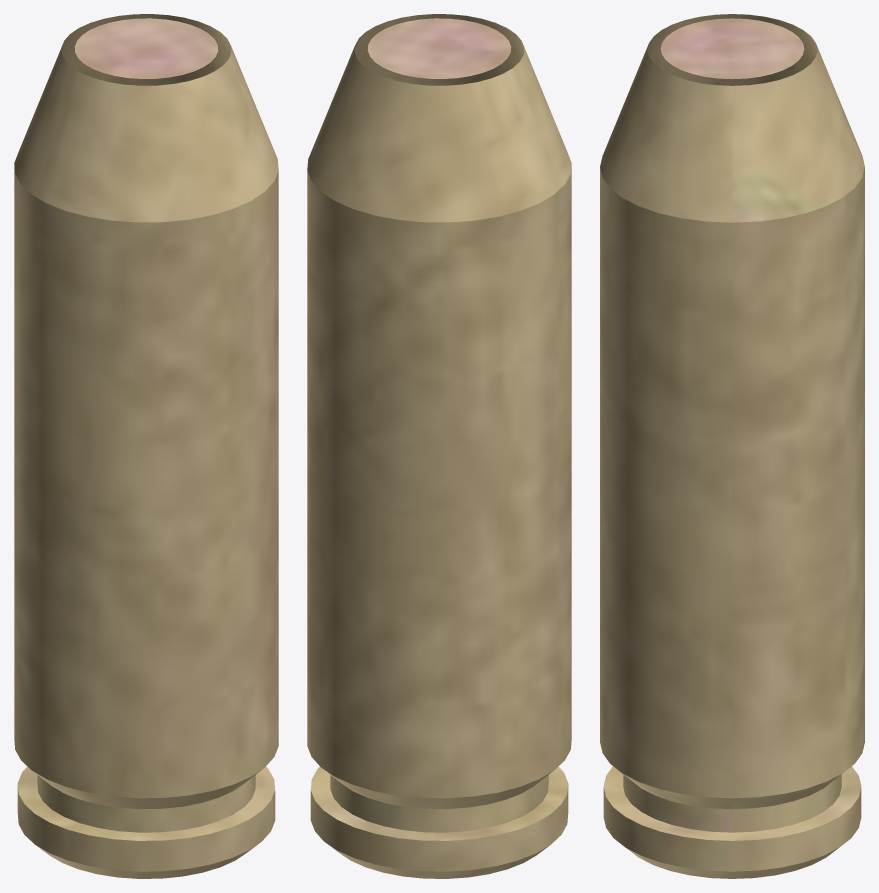
The model's file is shell-ak.glb.
3 renders of one model, left to right at view 1: azimuth 30°, elevation 25°; view 2: azimuth 150°, elevation 25°; view 3: azimuth 270°, elevation 25°, orthographic.
Parts seen in each view (by area): view 1: shell_ak; view 2: shell_ak; view 3: shell_ak.
Part boxes in pixels (x1,y1,x2,y2): shell_ak: [14, 14, 278, 878]; shell_ak: [307, 14, 571, 878]; shell_ak: [600, 14, 864, 878].
Size of the model in its own units: 0.012 by 0.039 by 0.012.
Materials: 1 (1 with a texture image).
